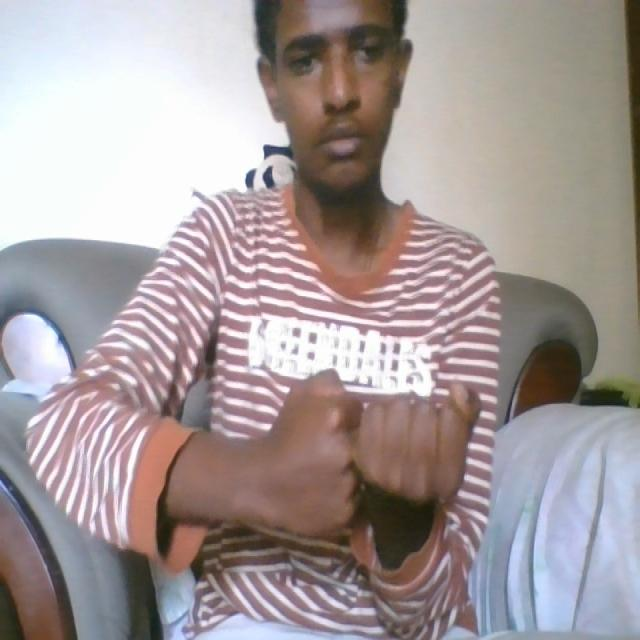beg: (242, 358, 488, 552)
